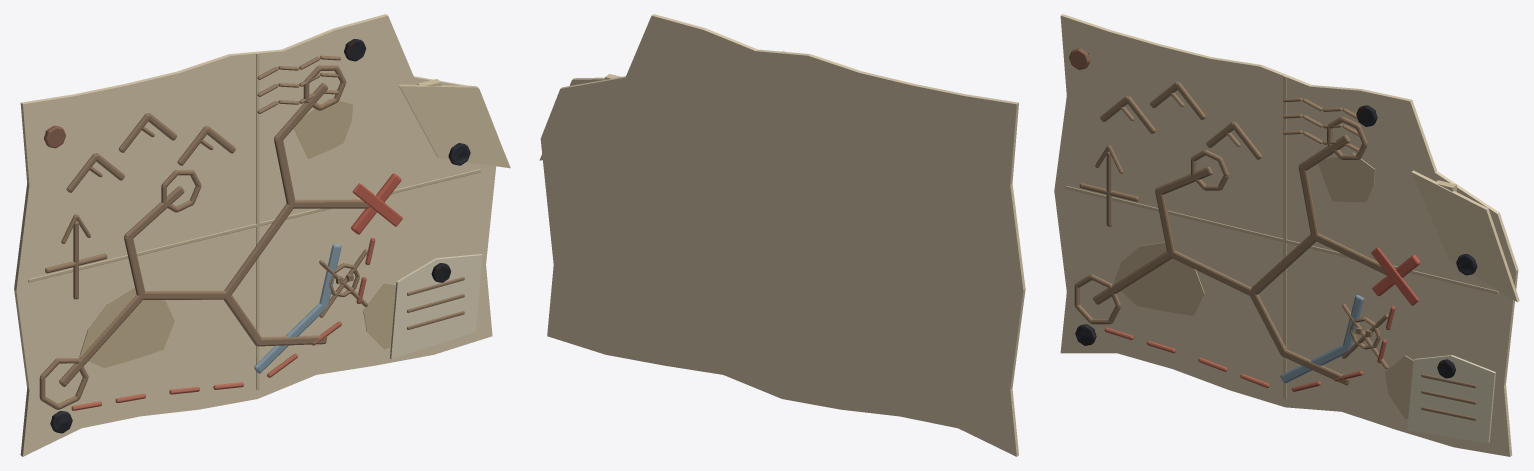
File: map_torn_wall.glb
The picture shows the model from 3 angles, left to right: view 1: azimuth 30°, elevation 25°; view 2: azimuth 150°, elevation 25°; view 3: azimuth 330°, elevation 25°; orthographic projection. The views are drawn at different scales.
Visible parts, largest first — view 1: model; view 2: model; view 3: model.
Boxes of the visible parts, left/top/right/bottom form: model: left=14, top=14, right=510, bottom=456; model: left=539, top=14, right=1025, bottom=456; model: left=1054, top=14, right=1519, bottom=456.
Size of the model in its own units: 0.75 by 0.5167 by 0.03.
Materials: 11 (1 with a texture image).
